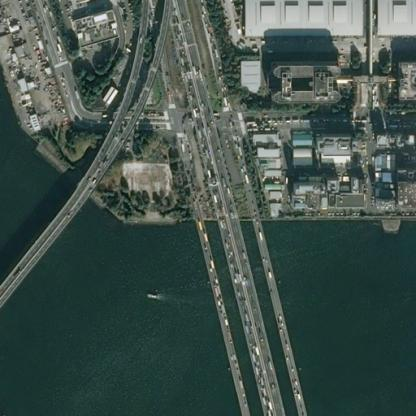ship: (142, 286, 161, 306)
